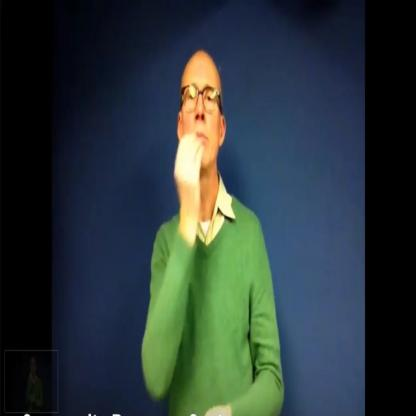Food: (166, 47, 234, 223)
